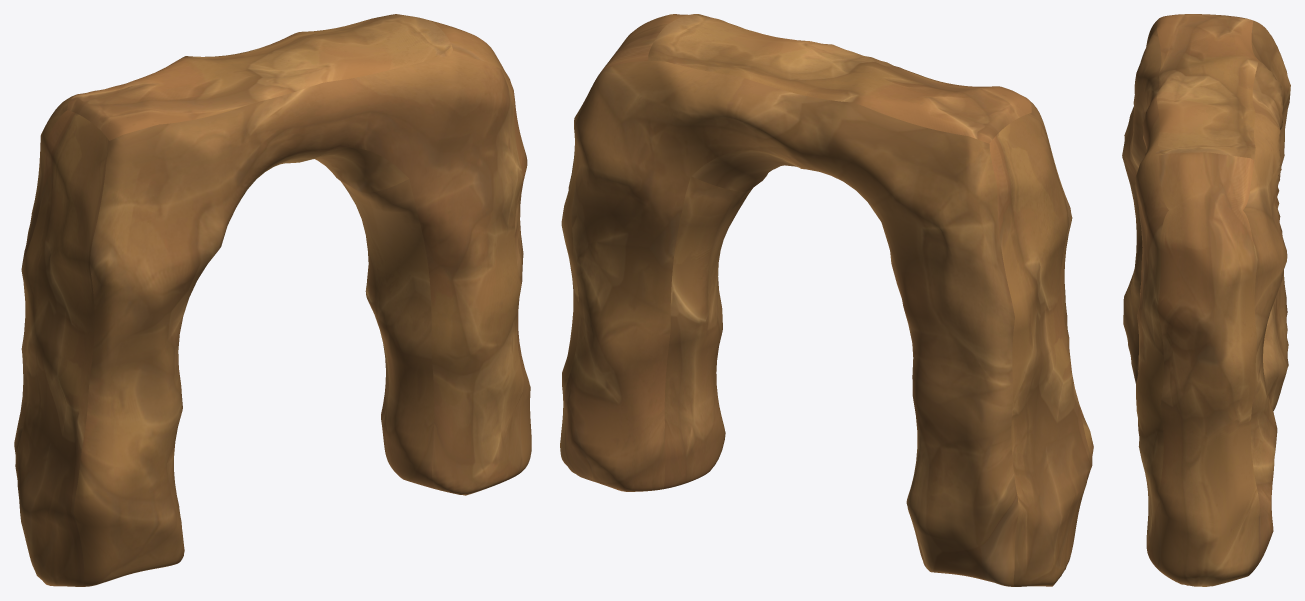
Rendered from islands7.fbx.
3 renders of one model, left to right at view 1: azimuth 30°, elevation 25°; view 2: azimuth 150°, elevation 25°; view 3: azimuth 270°, elevation 25°, orthographic. The views are drawn at different scales.
Parts seen in each view (by area): view 1: Cube.006; view 2: Cube.006; view 3: Cube.006.
Part boxes in pixels (box(x1,y1,x2,y2)): Cube.006: box(14, 14, 531, 586); Cube.006: box(560, 14, 1093, 586); Cube.006: box(1122, 14, 1290, 586).
Bounding box in the file's own units: 1396 × 1269 × 466.
Materials: 1 (1 with a texture image).
